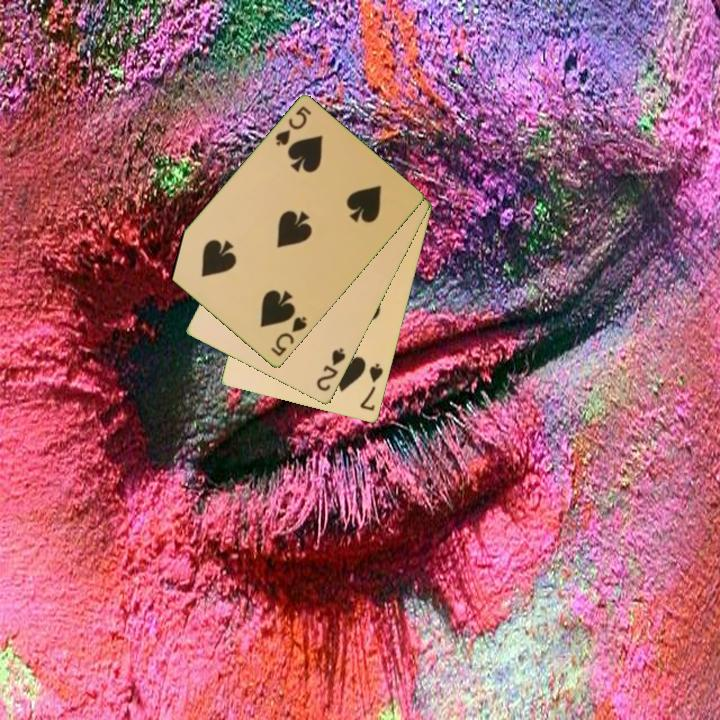2s: (313, 345, 349, 395)
5s: (267, 313, 310, 360), (272, 103, 315, 150)
7s: (357, 360, 386, 414)
